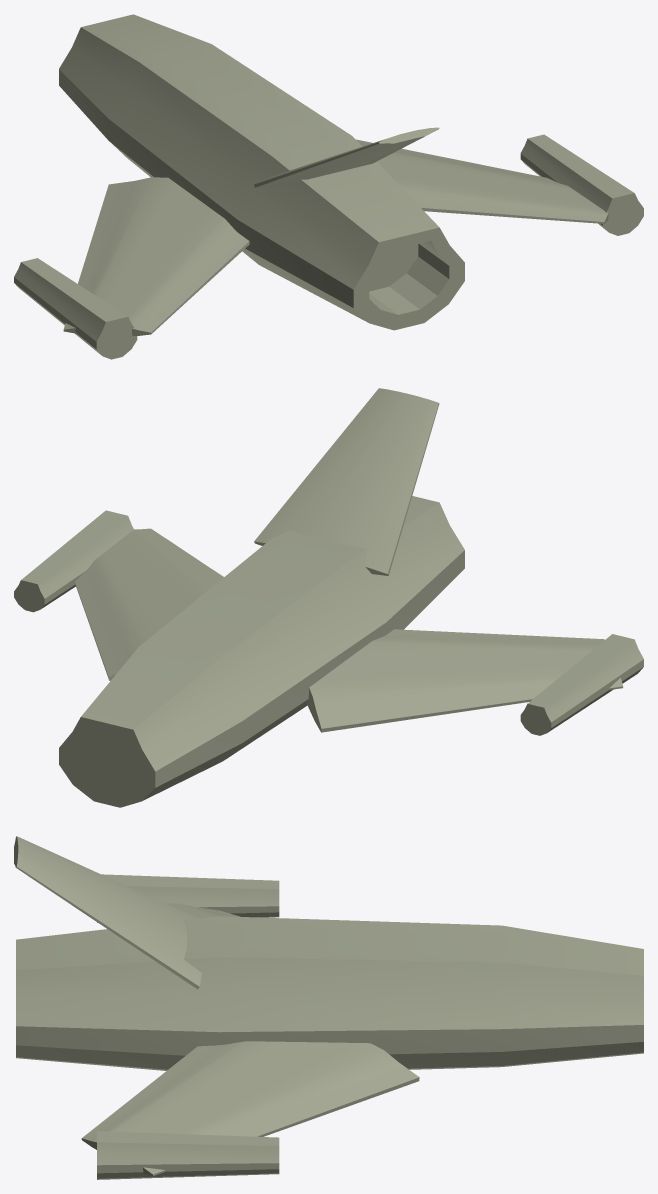
Rendered from vos_cutter.glb.
The picture shows the model from 3 angles, top to bottom: view 1: azimuth 30°, elevation 25°; view 2: azimuth 150°, elevation 25°; view 3: azimuth 270°, elevation 25°; orthographic projection. The views are drawn at different scales.
Visible parts, largest first — view 1: hull; view 2: hull; view 3: hull.
Part boxes in pixels (box(x1,y1,x2,y2)): hull: box(14, 14, 643, 359); hull: box(14, 388, 643, 807); hull: box(14, 836, 643, 1179).
Size of the model in its own units: 16.58 by 5.88 by 15.55.
